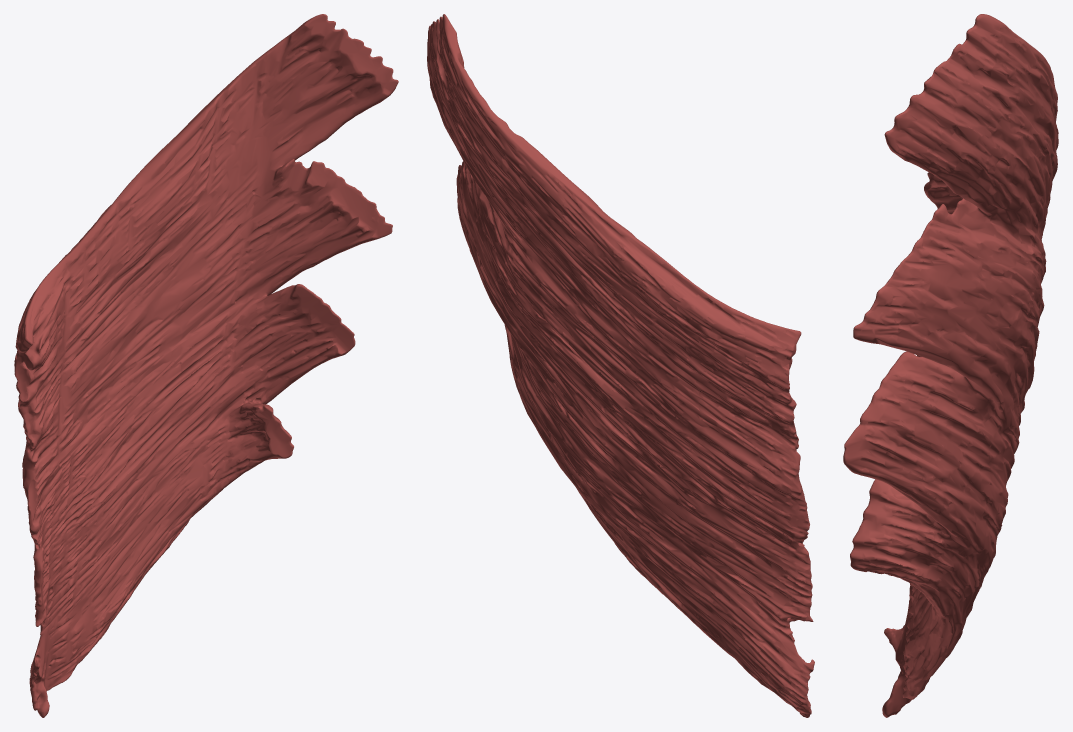
The model's file is FMA13406.glb.
3 views of the same model, side by side, from view 1: azimuth 30°, elevation 25°; view 2: azimuth 150°, elevation 25°; view 3: azimuth 270°, elevation 25° (orthographic). The views are drawn at different scales.
Parts seen in each view (by area): view 1: FMA13406; view 2: FMA13406; view 3: FMA13406.
Part boxes in pixels (box(x1,y1,x2,y2)): FMA13406: box(14, 14, 398, 717); FMA13406: box(427, 14, 814, 717); FMA13406: box(843, 14, 1058, 717).
Size of the model in its own units: 0.1083 by 0.1729 by 0.036.
